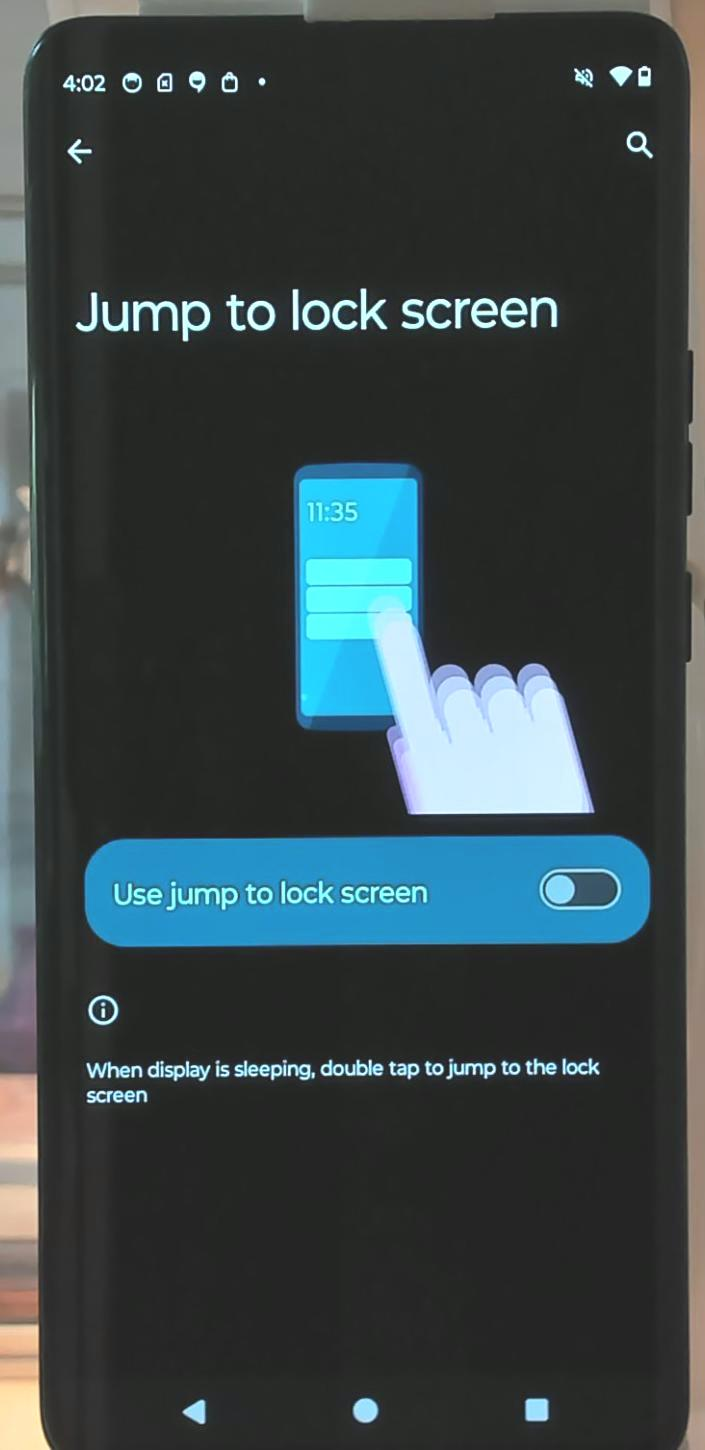Checkbox: (105, 855, 626, 923)
